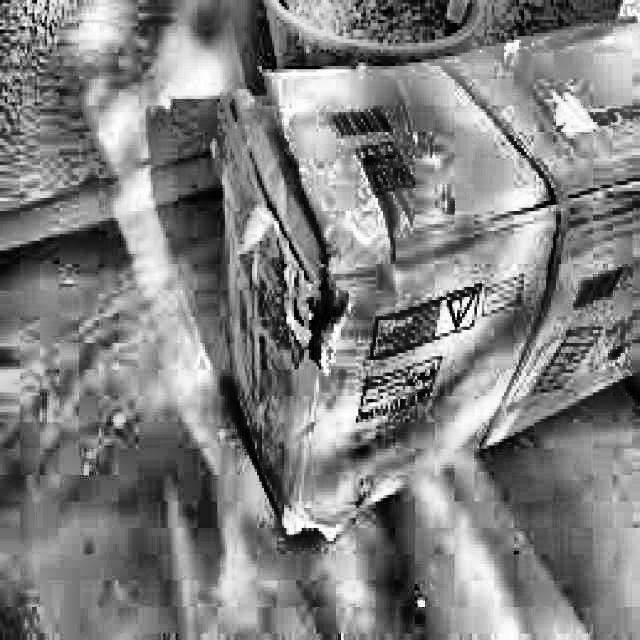box: (210, 14, 640, 562)
hole: (287, 257, 352, 367)
